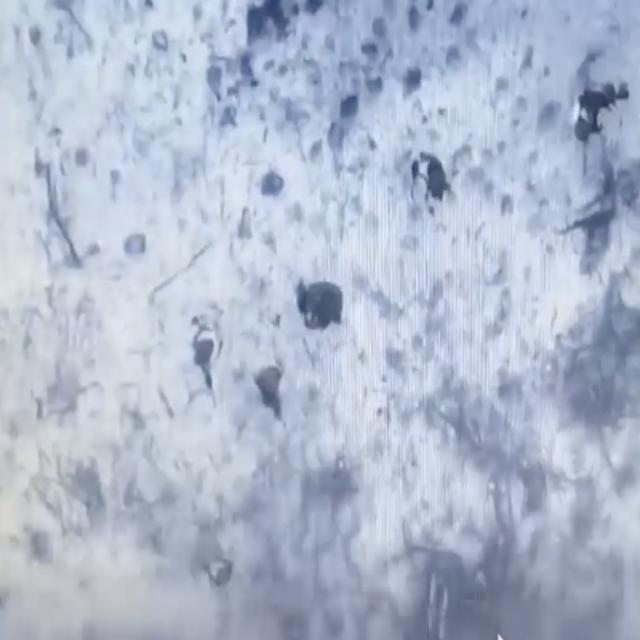vehicle: (294, 277, 346, 332)
